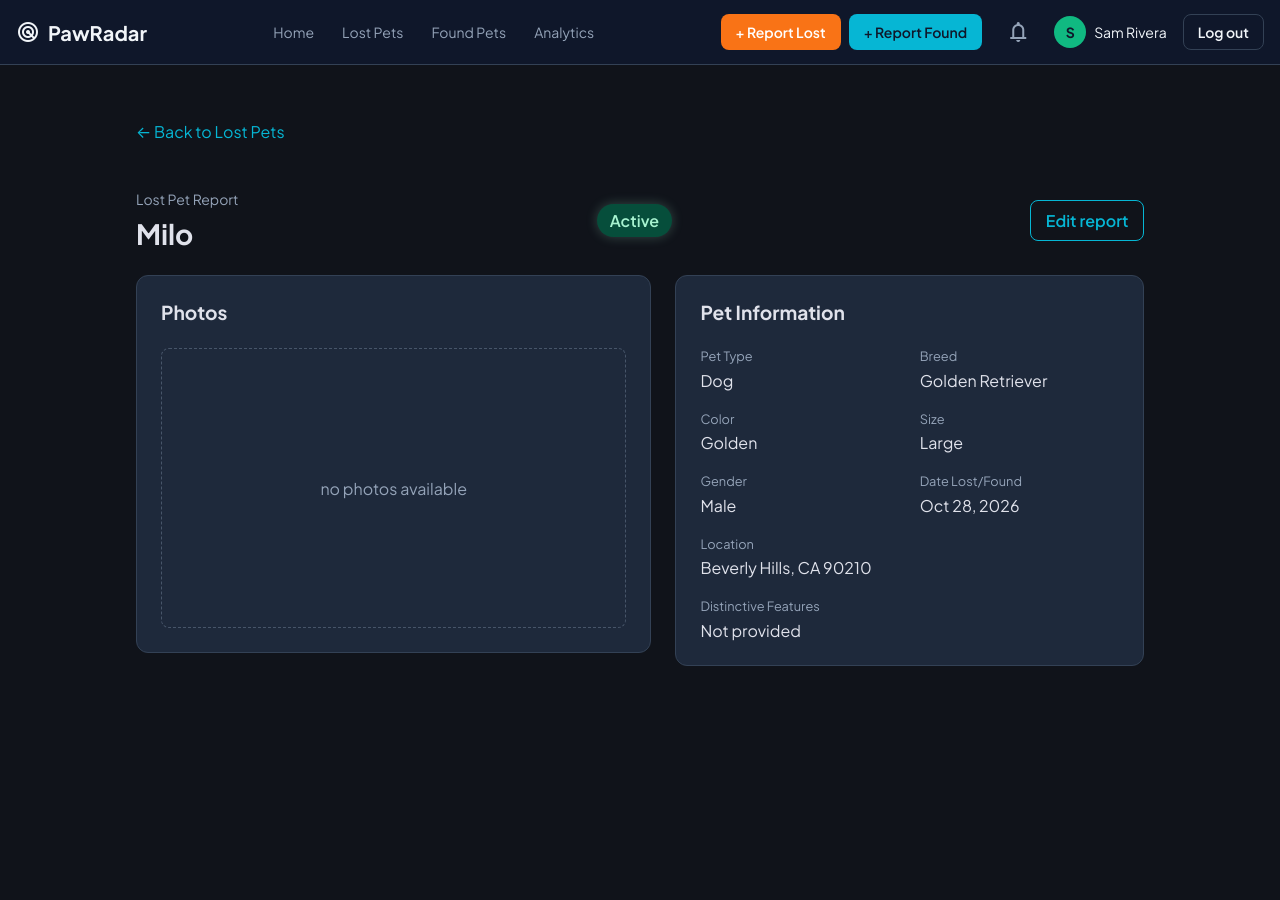
Test case: PetDetailsPage › shows the updated name after editing from Report Details
Expected: the heading "Milo" is shown, [136, 216, 193, 251]
// Open Edit Report through the actual link
Click the link "Edit report" at x=1087, y=220, box [1030, 200, 1144, 241]
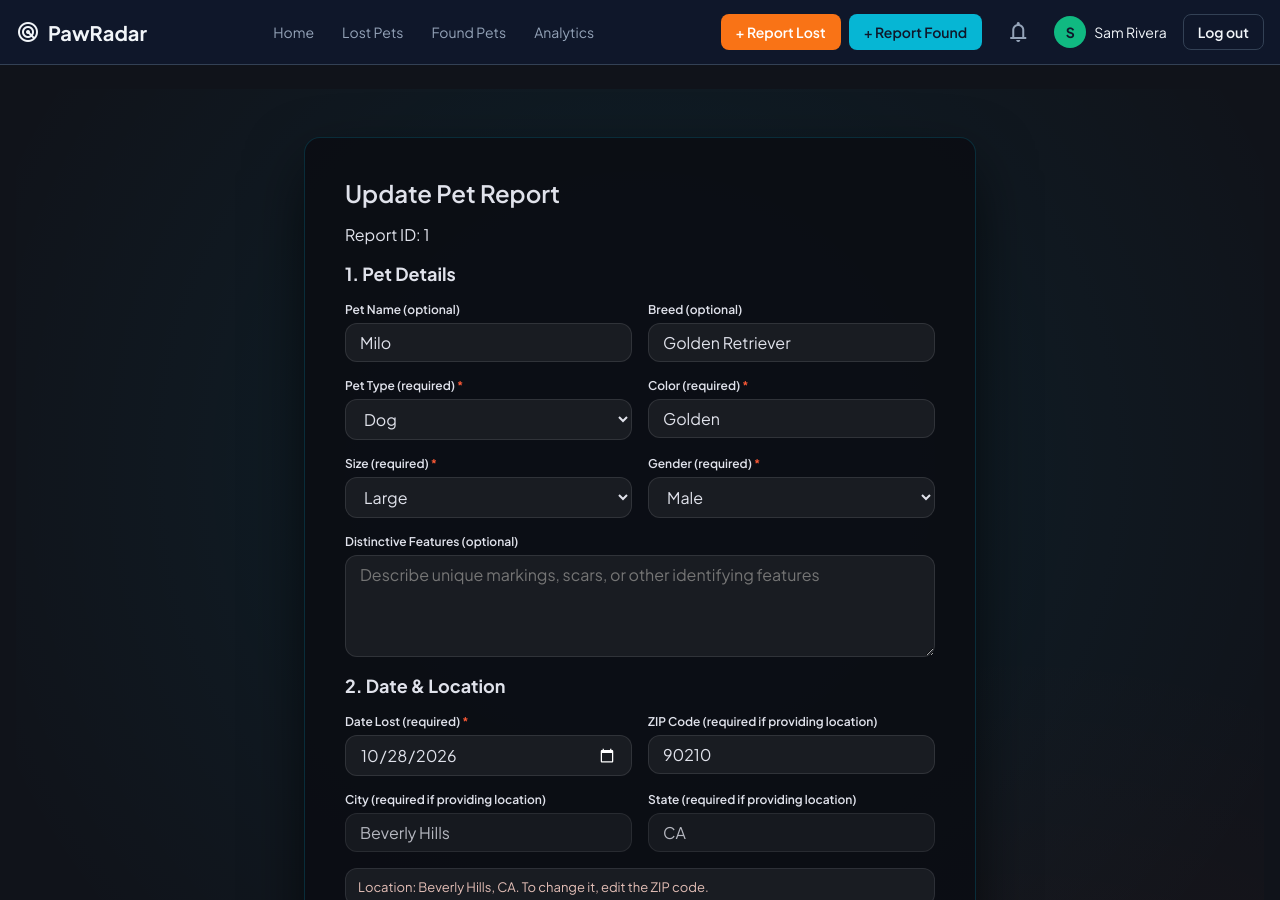
Expected: the heading "Update Pet Report" is shown, [345, 178, 560, 208]
Replace the text in the field labelled "Pet Name (optional)" with "Sunny" at x=488, y=343, box [345, 323, 632, 362]
(page scrolled)
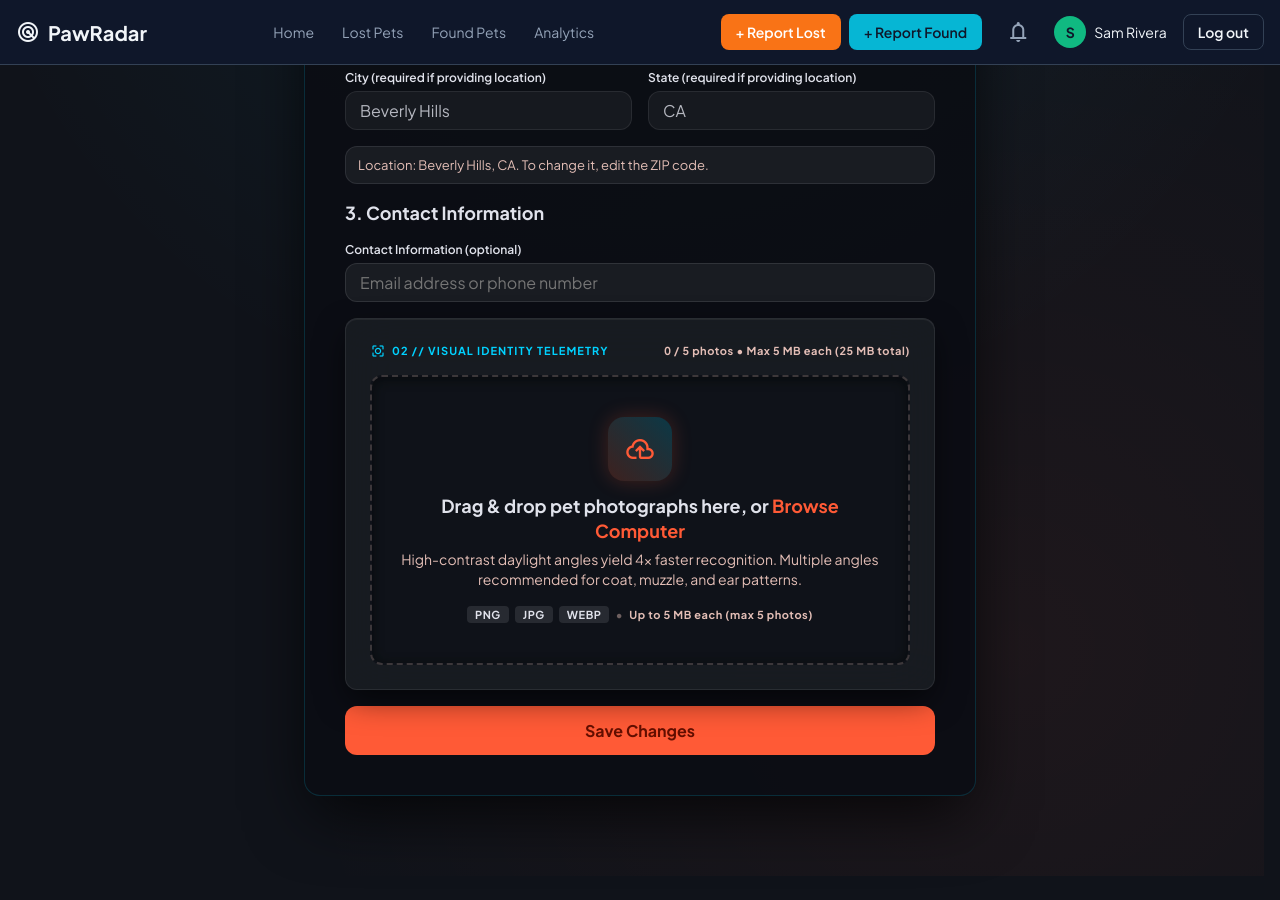
Click the button "Save Changes" at x=640, y=730, box [345, 706, 935, 754]
(page scrolled)
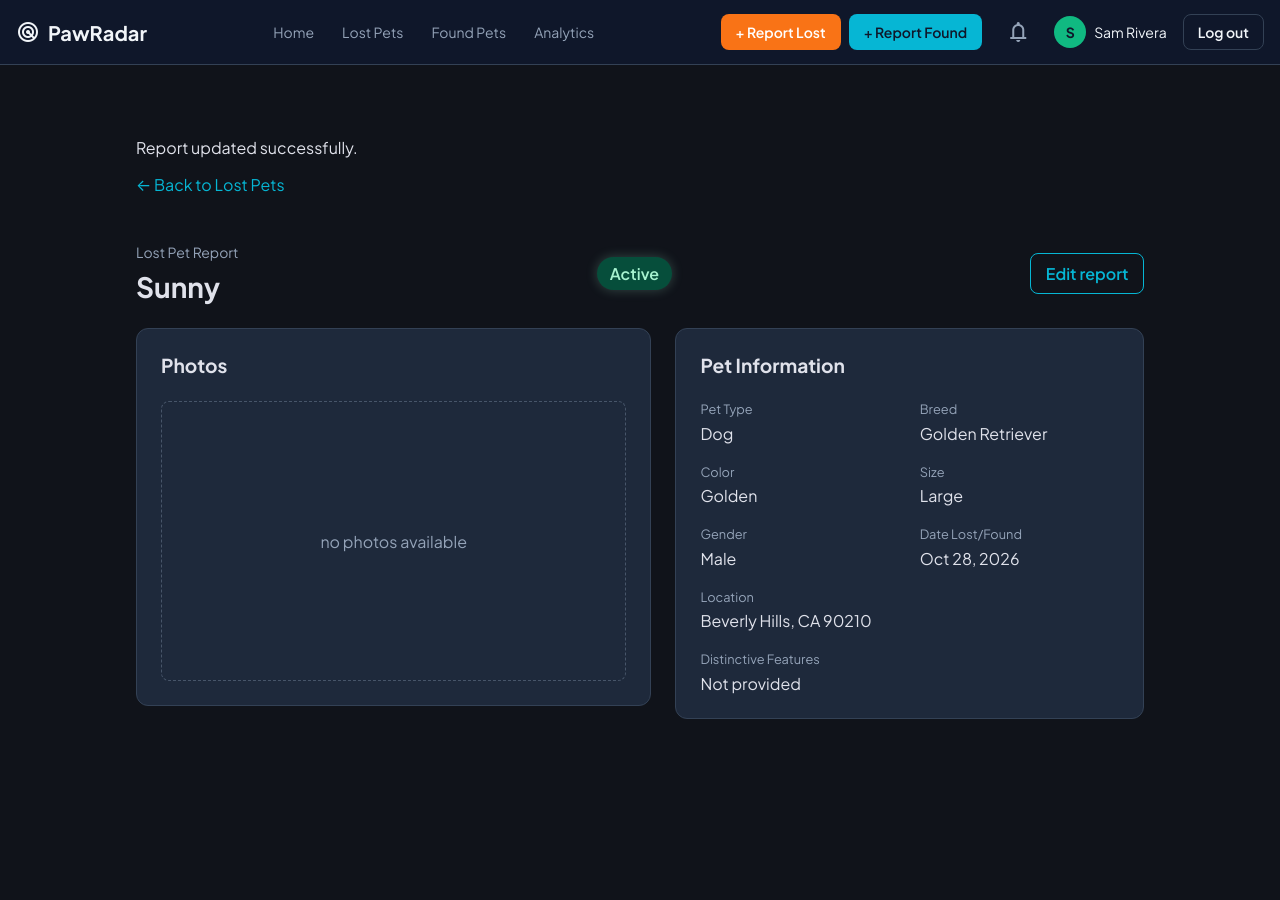
Expected: the heading "Sunny" is shown, [136, 269, 220, 304]
Expected: the message reads "Report updated successfully.", [136, 137, 358, 158]
